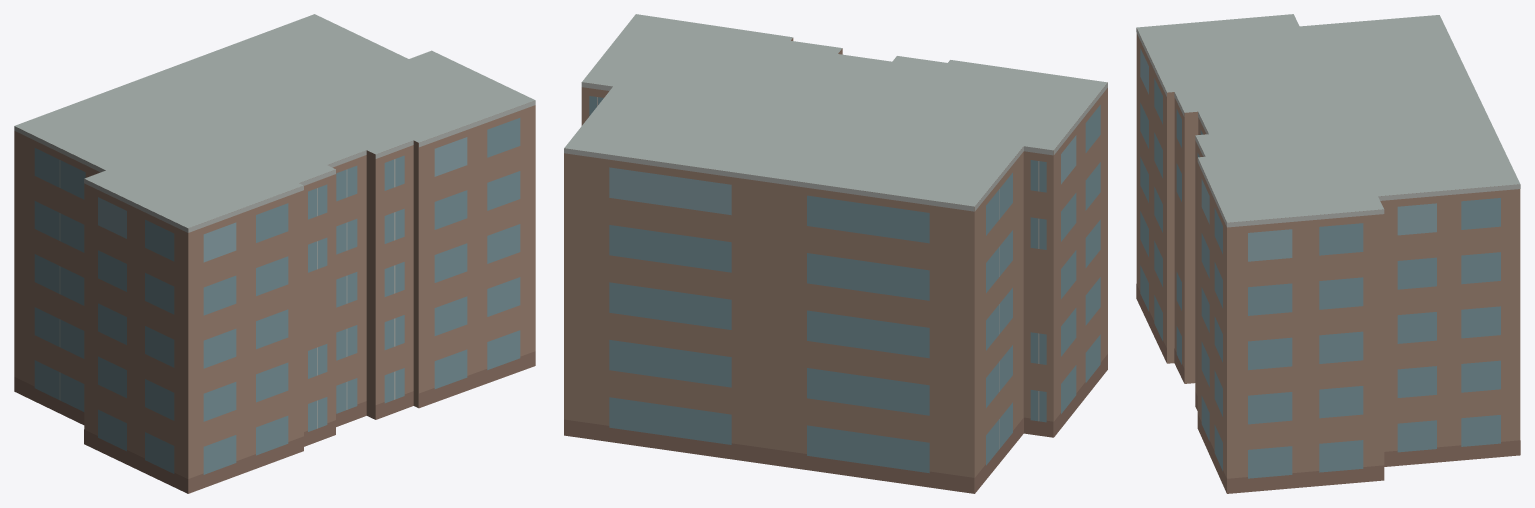
Rendered from survey-upis-32903061.glb.
3 renders of one model, left to right at view 1: azimuth 30°, elevation 25°; view 2: azimuth 150°, elevation 25°; view 3: azimuth 270°, elevation 25°, orthographic. The views are drawn at different scales.
Parts seen in each view (by area): view 1: survey-upis-32903061.tmp; view 2: survey-upis-32903061.tmp; view 3: survey-upis-32903061.tmp.
Boxes of the visible parts, left/top/right/bottom form: survey-upis-32903061.tmp: left=14, top=14, right=535, bottom=493; survey-upis-32903061.tmp: left=564, top=14, right=1107, bottom=493; survey-upis-32903061.tmp: left=1136, top=14, right=1520, bottom=493.
Bounding box in the file's own units: 22.96 × 13.9 × 17.85.
